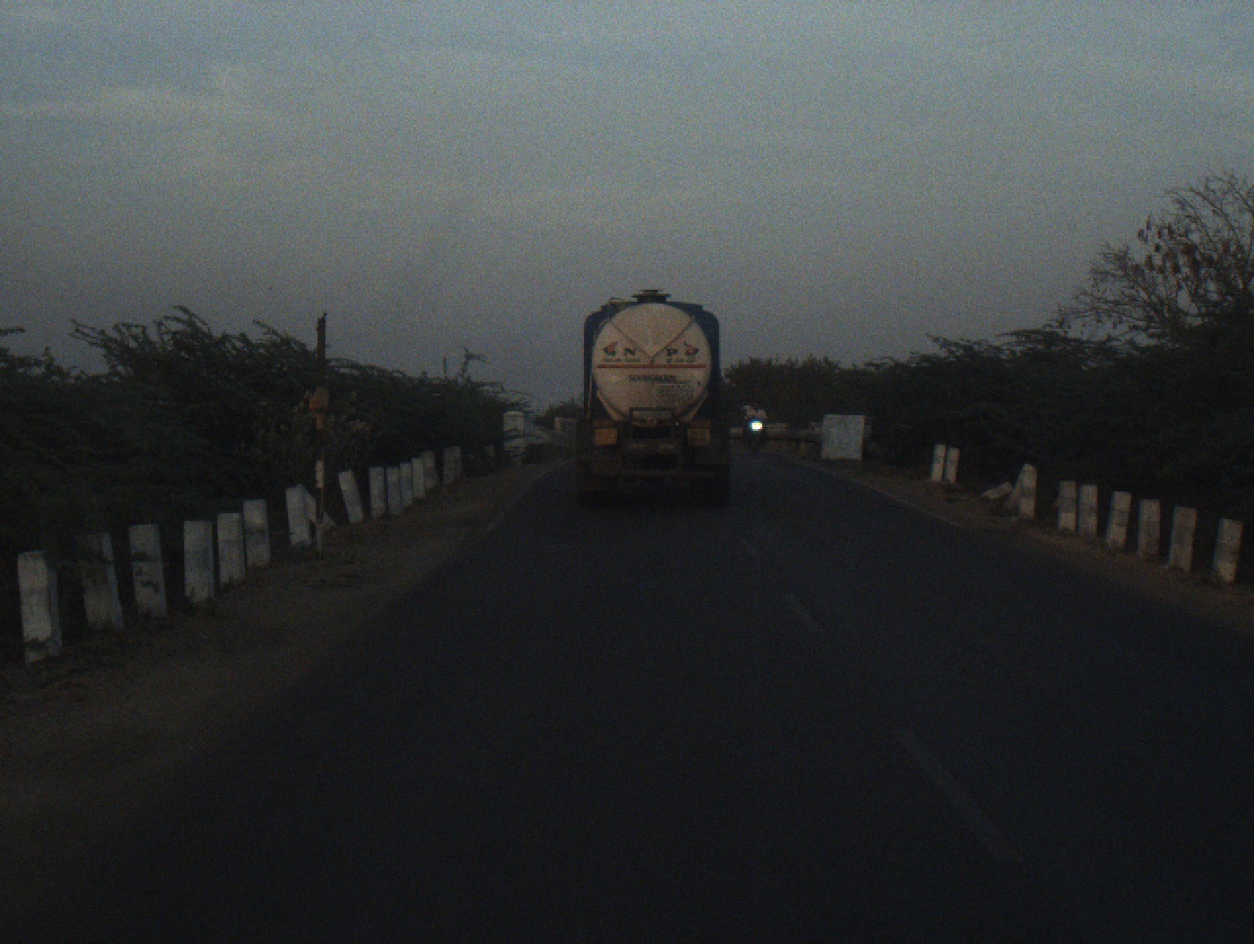motorcycle: (741, 411, 773, 457)
rider: (745, 399, 773, 446)
truck: (569, 281, 737, 518)
